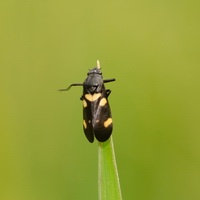insect: (59, 60, 114, 142)
